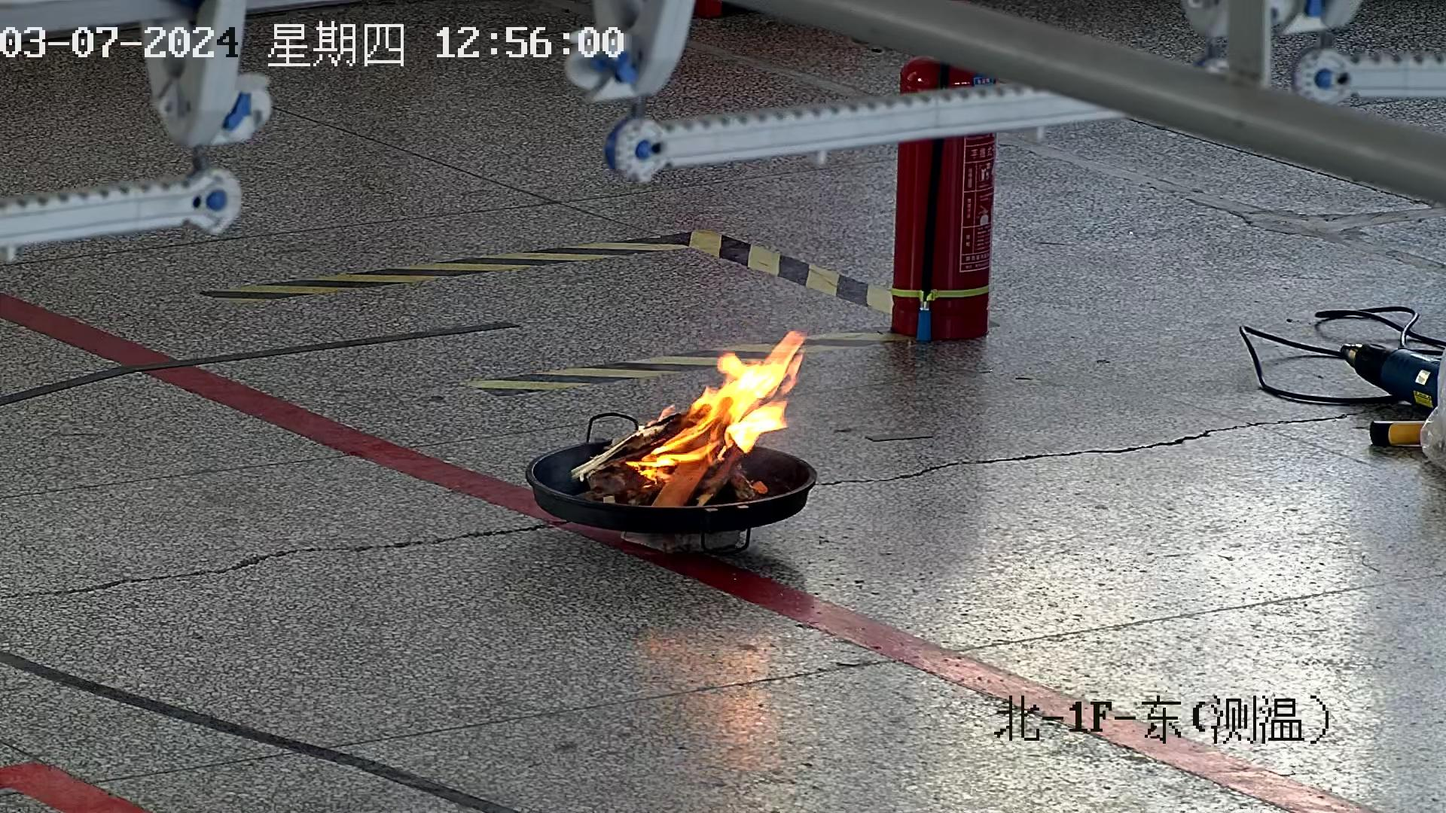fire: (623, 331, 805, 504)
